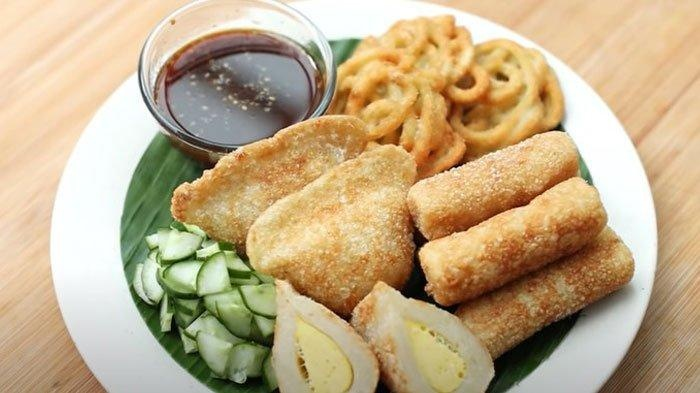pempek: (79, 5, 633, 374)
